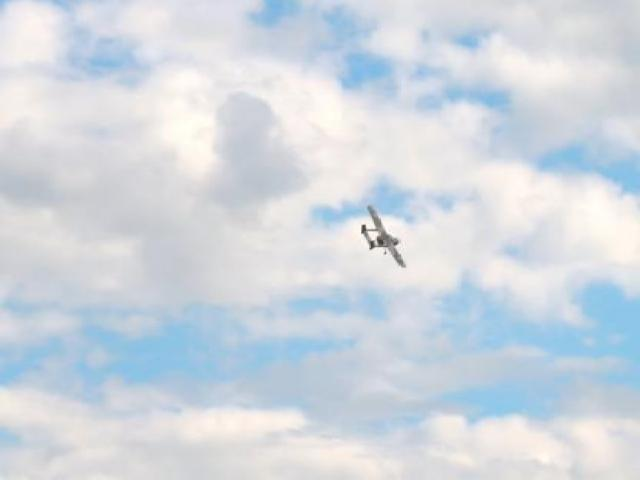uav: (359, 200, 410, 272)
